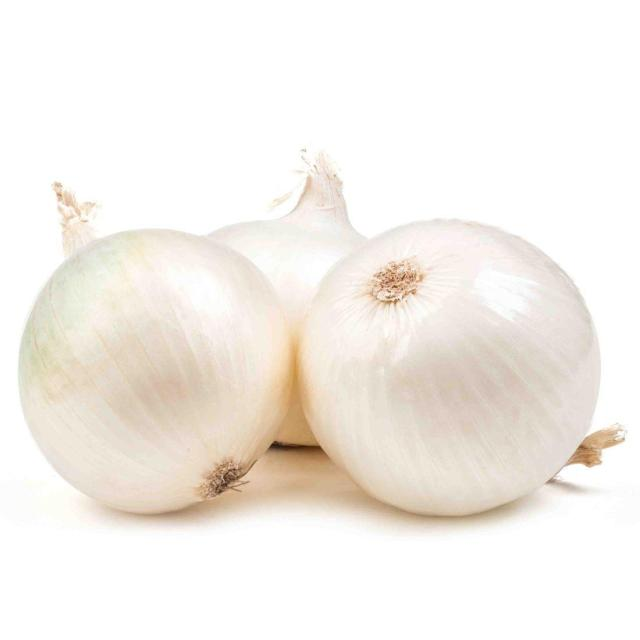Onion: (297, 221, 627, 514), (15, 180, 294, 514), (202, 147, 368, 446)
